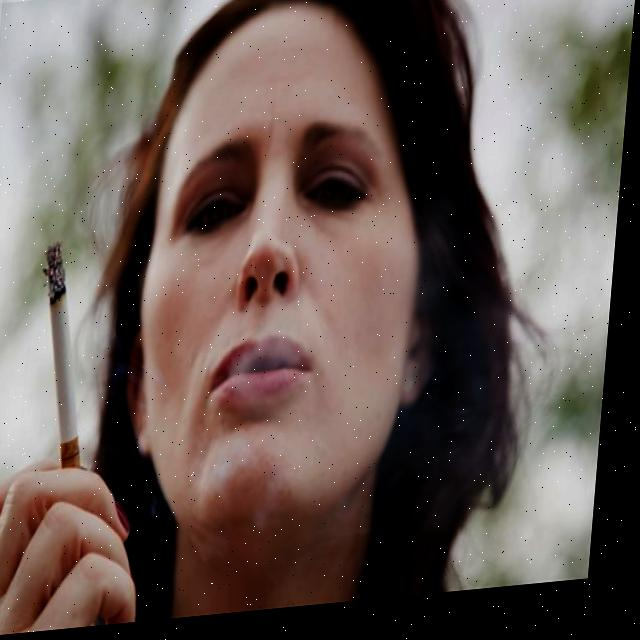cigarette: (35, 244, 102, 473)
